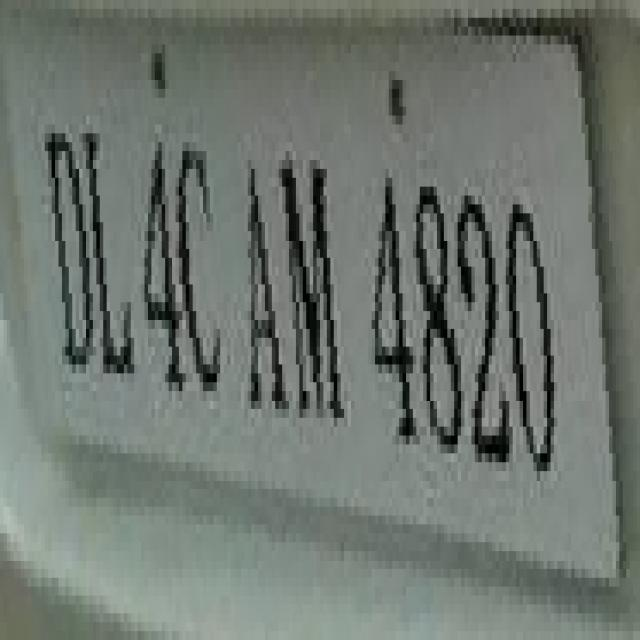license_plate: (0, 35, 612, 497)
